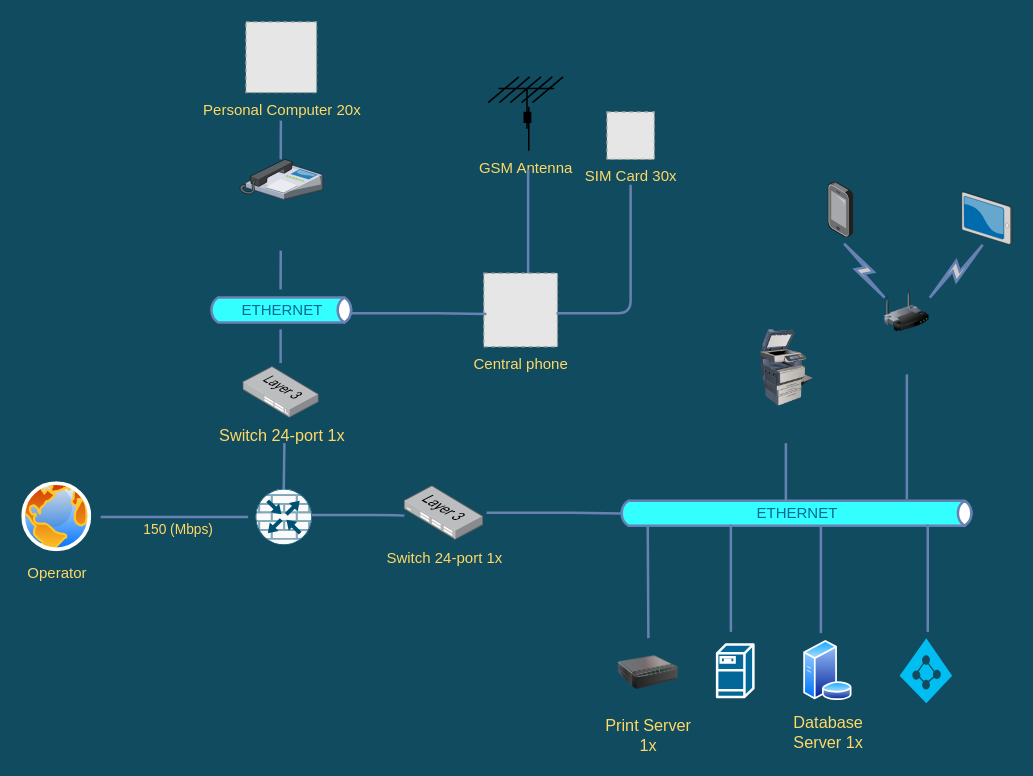
Some shapes in this 1033 by 776 pixel diagram are drawn without their labels. Grey dashed boxes stand in for pictures. The shapes that lost their labels are listed below. From the top down, each one's centre as x and y in pixels, then its label:
the point at 280,179: IP phone 20x LAN/Ethernet
the point at 906,309: Access point 1x: SSID: abc_net2
the point at 786,367: Multifunction device 1x
the point at 734,670: File Server 1x
the point at 925,670: Active Directory Server 1x
